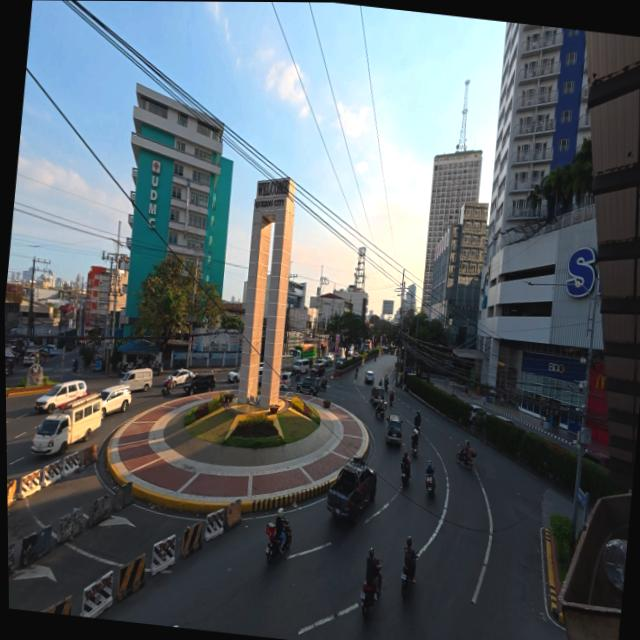car: (101, 385, 131, 419), (184, 374, 216, 394), (386, 415, 403, 445), (296, 376, 320, 395), (167, 369, 195, 385), (584, 451, 610, 468), (470, 404, 486, 422), (371, 386, 384, 406), (496, 415, 516, 427), (310, 361, 325, 376), (228, 369, 240, 382), (325, 353, 335, 365), (365, 371, 374, 384), (336, 357, 344, 367), (347, 351, 352, 359), (353, 352, 358, 357)
motorcycle: (266, 518, 292, 563), (361, 582, 375, 617), (456, 447, 476, 469), (401, 566, 413, 598), (401, 460, 411, 486), (161, 379, 174, 396), (425, 474, 435, 496), (375, 402, 386, 420), (412, 429, 419, 456), (151, 362, 163, 375), (71, 359, 79, 373), (414, 417, 421, 431), (388, 391, 394, 407), (321, 378, 328, 390), (355, 369, 358, 378)
trucks: (327, 458, 377, 523), (281, 355, 294, 372), (364, 340, 371, 352)
vans: (32, 394, 101, 454), (35, 381, 86, 413), (120, 368, 153, 391), (22, 349, 40, 367), (292, 359, 310, 373), (280, 371, 292, 390)
